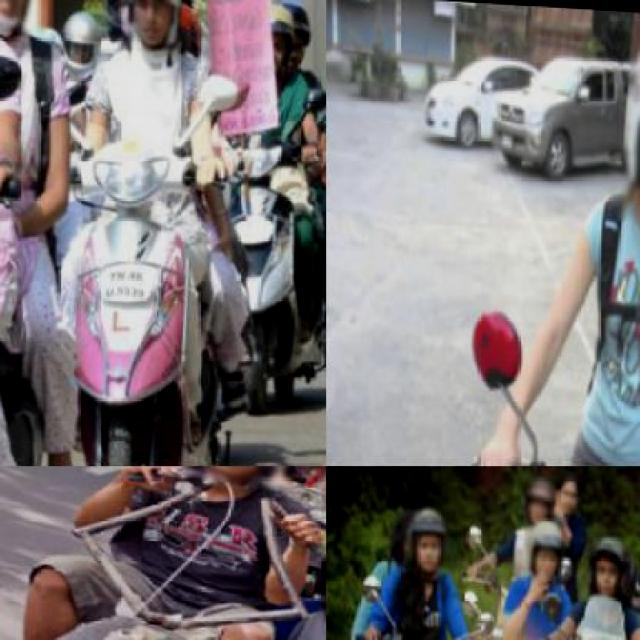With Helmet: (580, 522, 635, 604), (114, 0, 194, 52), (402, 498, 455, 576), (57, 0, 105, 82), (520, 508, 568, 588), (275, 0, 320, 77), (180, 466, 302, 491), (523, 470, 559, 527)
Without Helmet: (616, 12, 638, 231), (556, 467, 584, 515)
